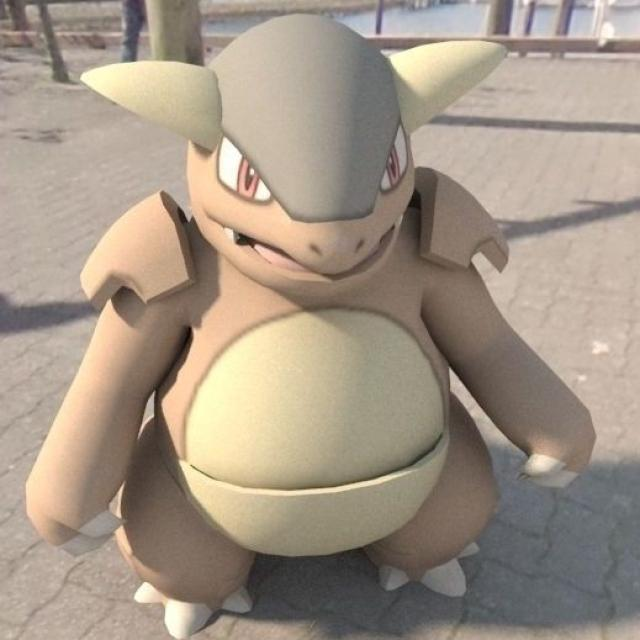Kangaskhan: (88, 35, 519, 607)
